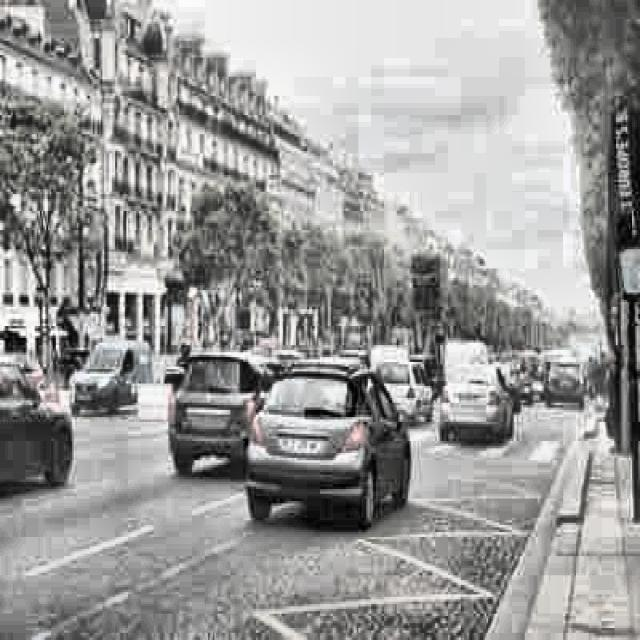license_plate: (279, 433, 321, 459), (188, 411, 226, 434), (457, 394, 485, 413)
